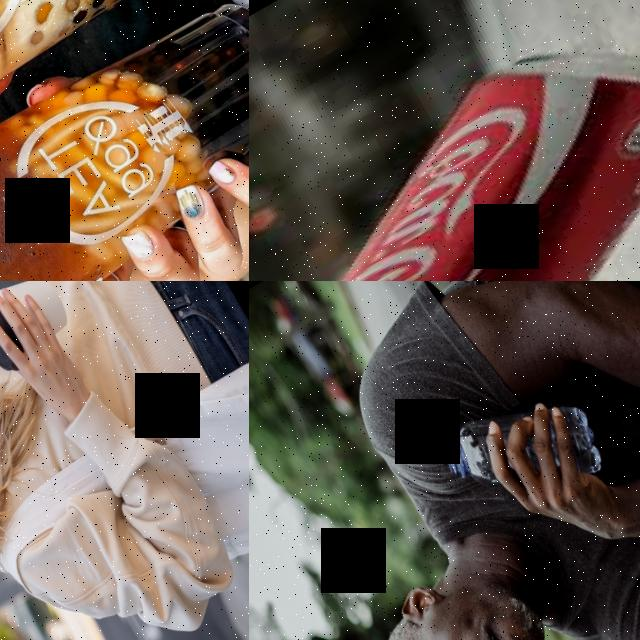bottle: (434, 369, 618, 541)
can: (249, 0, 640, 281)
cup: (0, 0, 249, 281), (0, 0, 213, 214), (0, 281, 83, 380)
